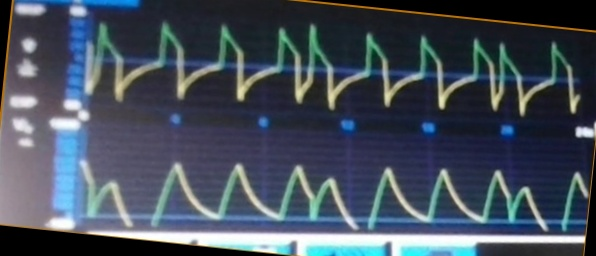Double_Triggering Flow: (86, 22, 528, 117)
Double_Triggering Volume: (80, 151, 546, 230)
